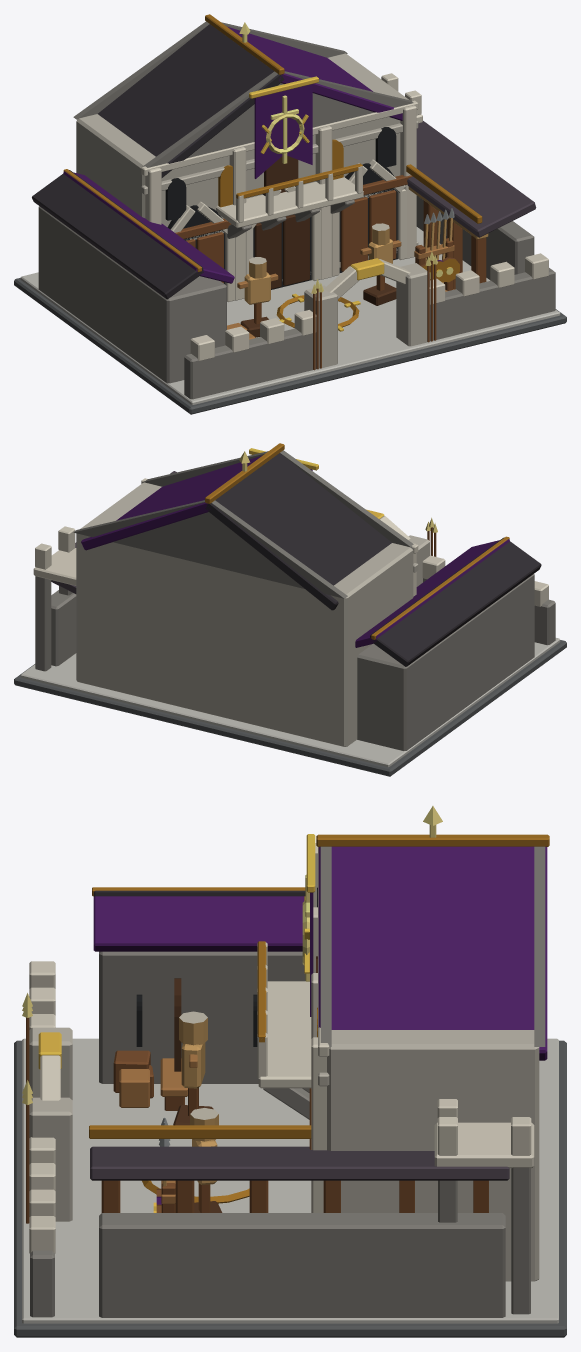
The picture shows the model from 3 angles, top to bottom: view 1: azimuth 30°, elevation 25°; view 2: azimuth 150°, elevation 25°; view 3: azimuth 270°, elevation 25°; orthographic projection. The views are drawn at different scales.
Visible parts, largest first — view 1: WK_CityBarracks_LOD1_Balanced; view 2: WK_CityBarracks_LOD1_Balanced; view 3: WK_CityBarracks_LOD1_Balanced.
Part boxes in pixels (<box>): WK_CityBarracks_LOD1_Balanced: <box>14,14,566,414</box>; WK_CityBarracks_LOD1_Balanced: <box>14,443,566,776</box>; WK_CityBarracks_LOD1_Balanced: <box>14,806,566,1337</box>.
Bounding box in the file's own units: 16 × 10.1 × 13.
